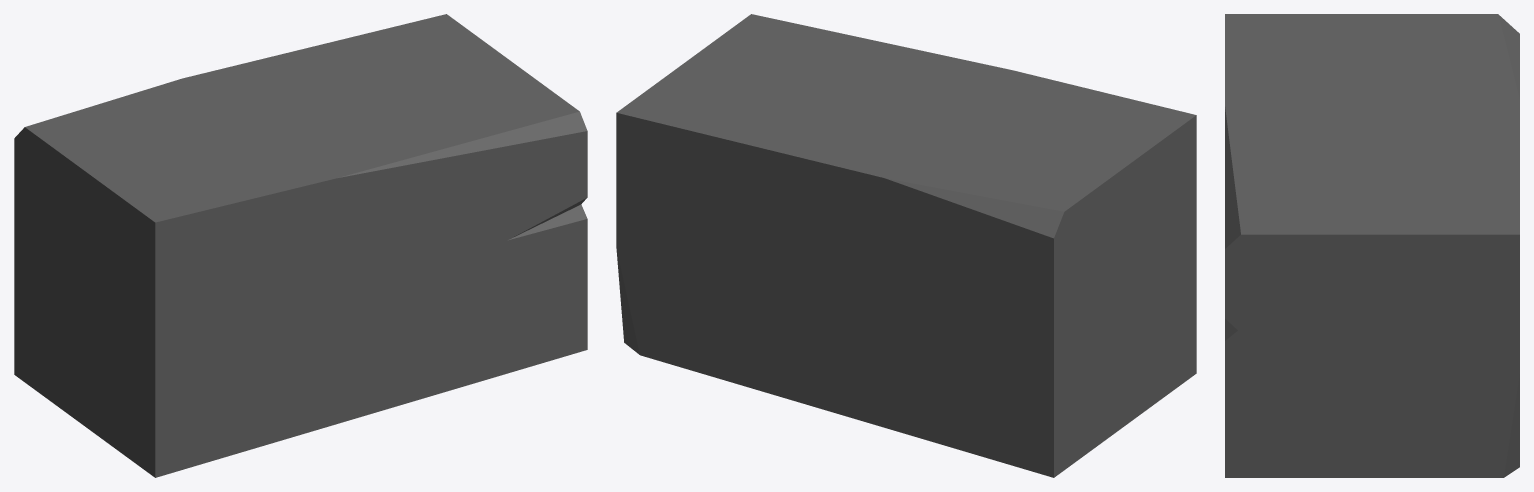
The model's file is Brick_02.fbx.
3 views of the same model, side by side, from view 1: azimuth 30°, elevation 25°; view 2: azimuth 150°, elevation 25°; view 3: azimuth 270°, elevation 25° (orthographic). The views are drawn at different scales.
Visible parts, largest first — view 1: Brick_02_LOD0; view 2: Brick_02_LOD0; view 3: Brick_02_LOD0.
Part boxes in pixels (x1,y1,x2,y2): Brick_02_LOD0: [14, 14, 587, 477]; Brick_02_LOD0: [616, 14, 1196, 477]; Brick_02_LOD0: [1225, 14, 1519, 477].
Size of what is drawn, in the model's own units: 0.4264 by 0.2408 by 0.2408.
